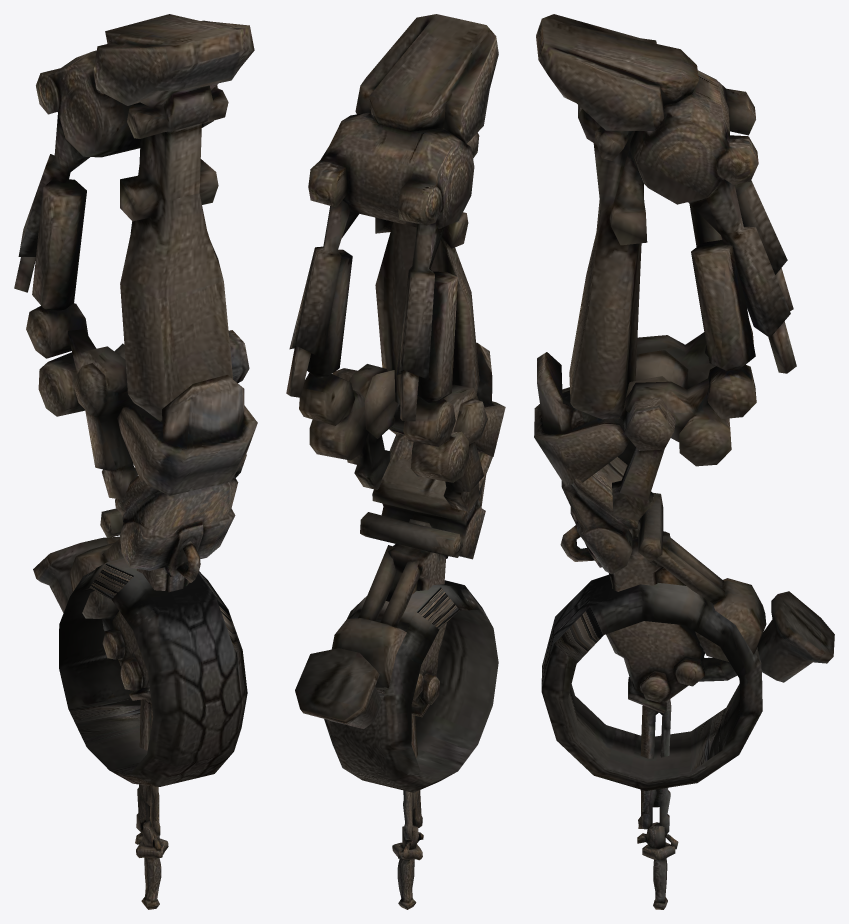
Rendered from rustedWheels.glb.
3 renders of one model, left to right at view 1: azimuth 30°, elevation 25°; view 2: azimuth 150°, elevation 25°; view 3: azimuth 270°, elevation 25°, orthographic. The views are drawn at different scales.
Parts seen in each view (by area): view 1: 0.004, 1.004, 2.004, 3.004; view 2: 0.004, 1.004, 2.004, 3.004; view 3: 0.004, 1.004, 2.004, 3.004.
Boxes of the visible parts, left/top/right/bottom form: 0.004: left=14, top=14, right=254, bottom=421; 1.004: left=33, top=330, right=257, bottom=700; 2.004: left=59, top=558, right=247, bottom=786; 3.004: left=135, top=698, right=168, bottom=909; 0.004: left=286, top=14, right=498, bottom=482; 1.004: left=295, top=342, right=505, bottom=728; 2.004: left=324, top=580, right=498, bottom=792; 3.004: left=392, top=715, right=423, bottom=909; 0.004: left=536, top=14, right=796, bottom=466; 1.004: left=534, top=350, right=834, bottom=713; 2.004: left=541, top=574, right=762, bottom=790; 3.004: left=637, top=699, right=678, bottom=909.
Size of the model in its own units: 0.5498 by 2.9 by 0.9011.
Materials: 1 (1 with a texture image).
